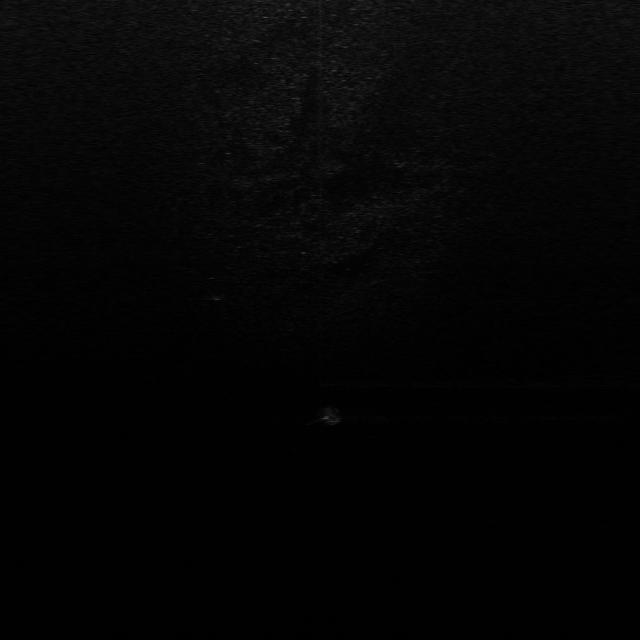ball: (316, 403, 344, 425)
circle cage: (200, 284, 232, 302)
